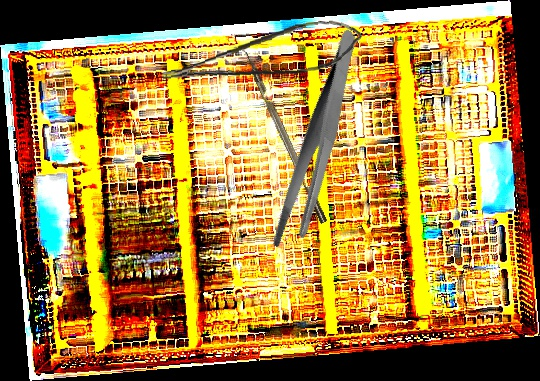Chopper: (231, 41, 328, 228)
Dressing Forceps: (228, 28, 410, 257)
Micro Scissor: (158, 15, 365, 87)
